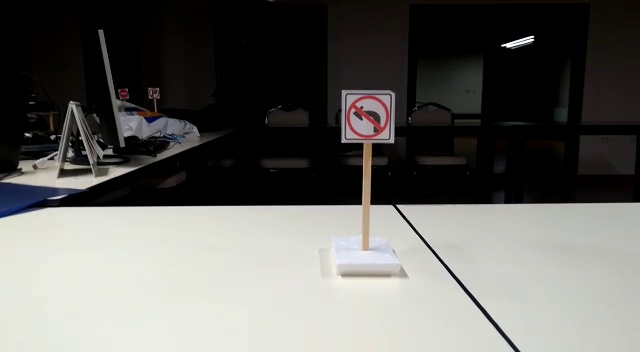sola_donulmez: (341, 89, 394, 140)
